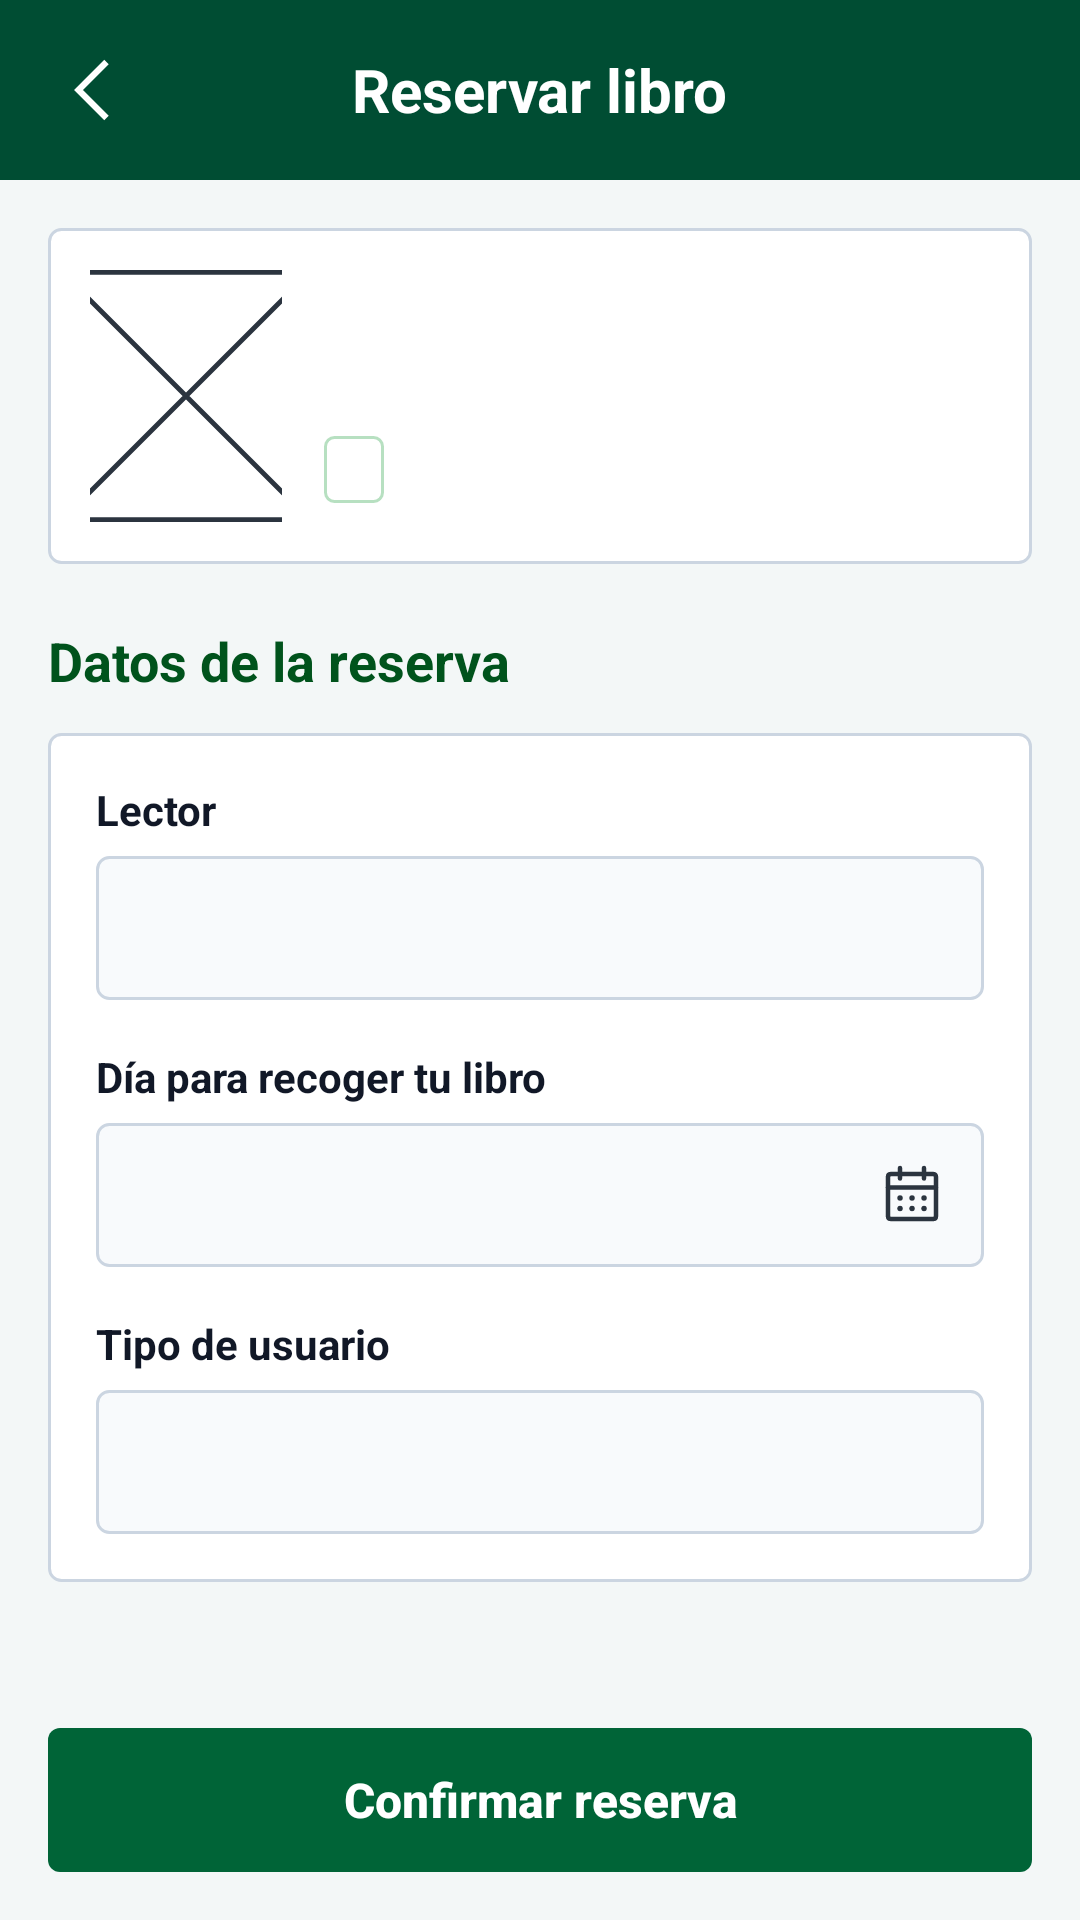

Point at icon controls on the screen. Image size 1080px x 1920px, points as (x=x, y=y).
Volver: (x=91, y=90)
